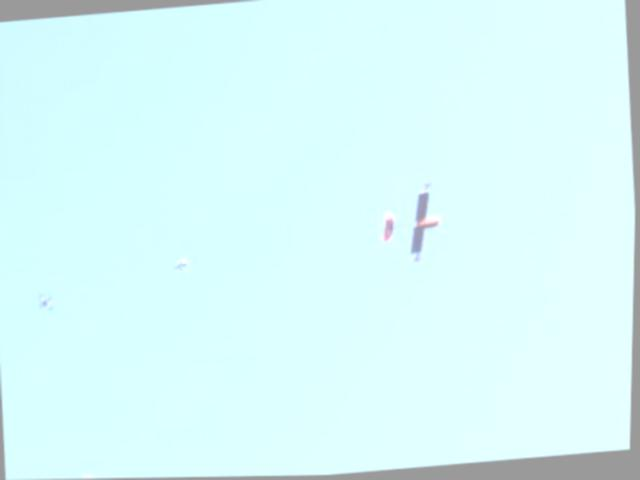uav: (365, 170, 464, 276)
